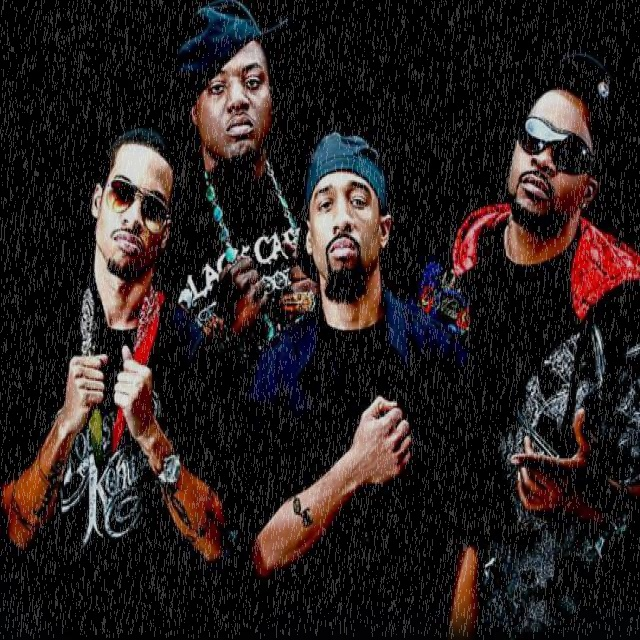pessoa: (232, 126, 505, 634), (411, 44, 640, 638), (0, 114, 246, 638), (154, 0, 321, 400)
